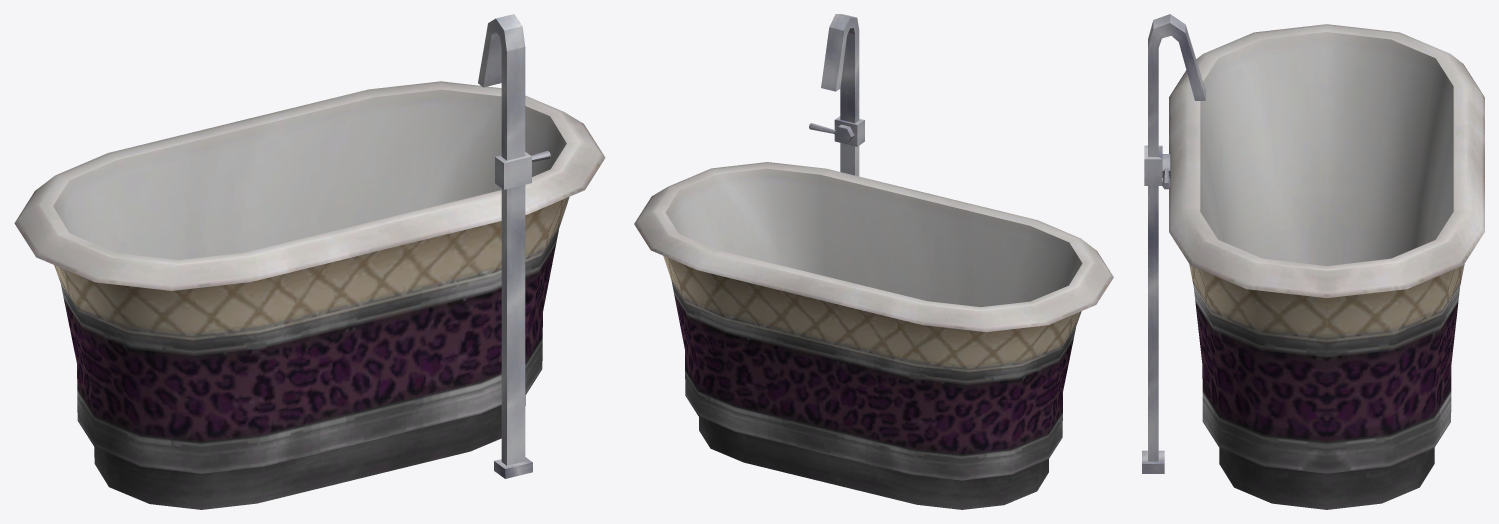
File: furni_0200083_02.FBX
The picture shows the model from 3 angles, left to right: view 1: azimuth 30°, elevation 25°; view 2: azimuth 150°, elevation 25°; view 3: azimuth 270°, elevation 25°; orthographic projection. The views are drawn at different scales.
Parts seen in each view (by area): view 1: furni_0200083_02; view 2: furni_0200083_02; view 3: furni_0200083_02.
Boxes of the visible parts, <box> form: furni_0200083_02: <box>14,14,605,509</box>; furni_0200083_02: <box>634,14,1113,509</box>; furni_0200083_02: <box>1142,14,1484,509</box>.
Bounding box in the file's own units: 169 × 133 × 91.82.
1 material, 1 textured.
